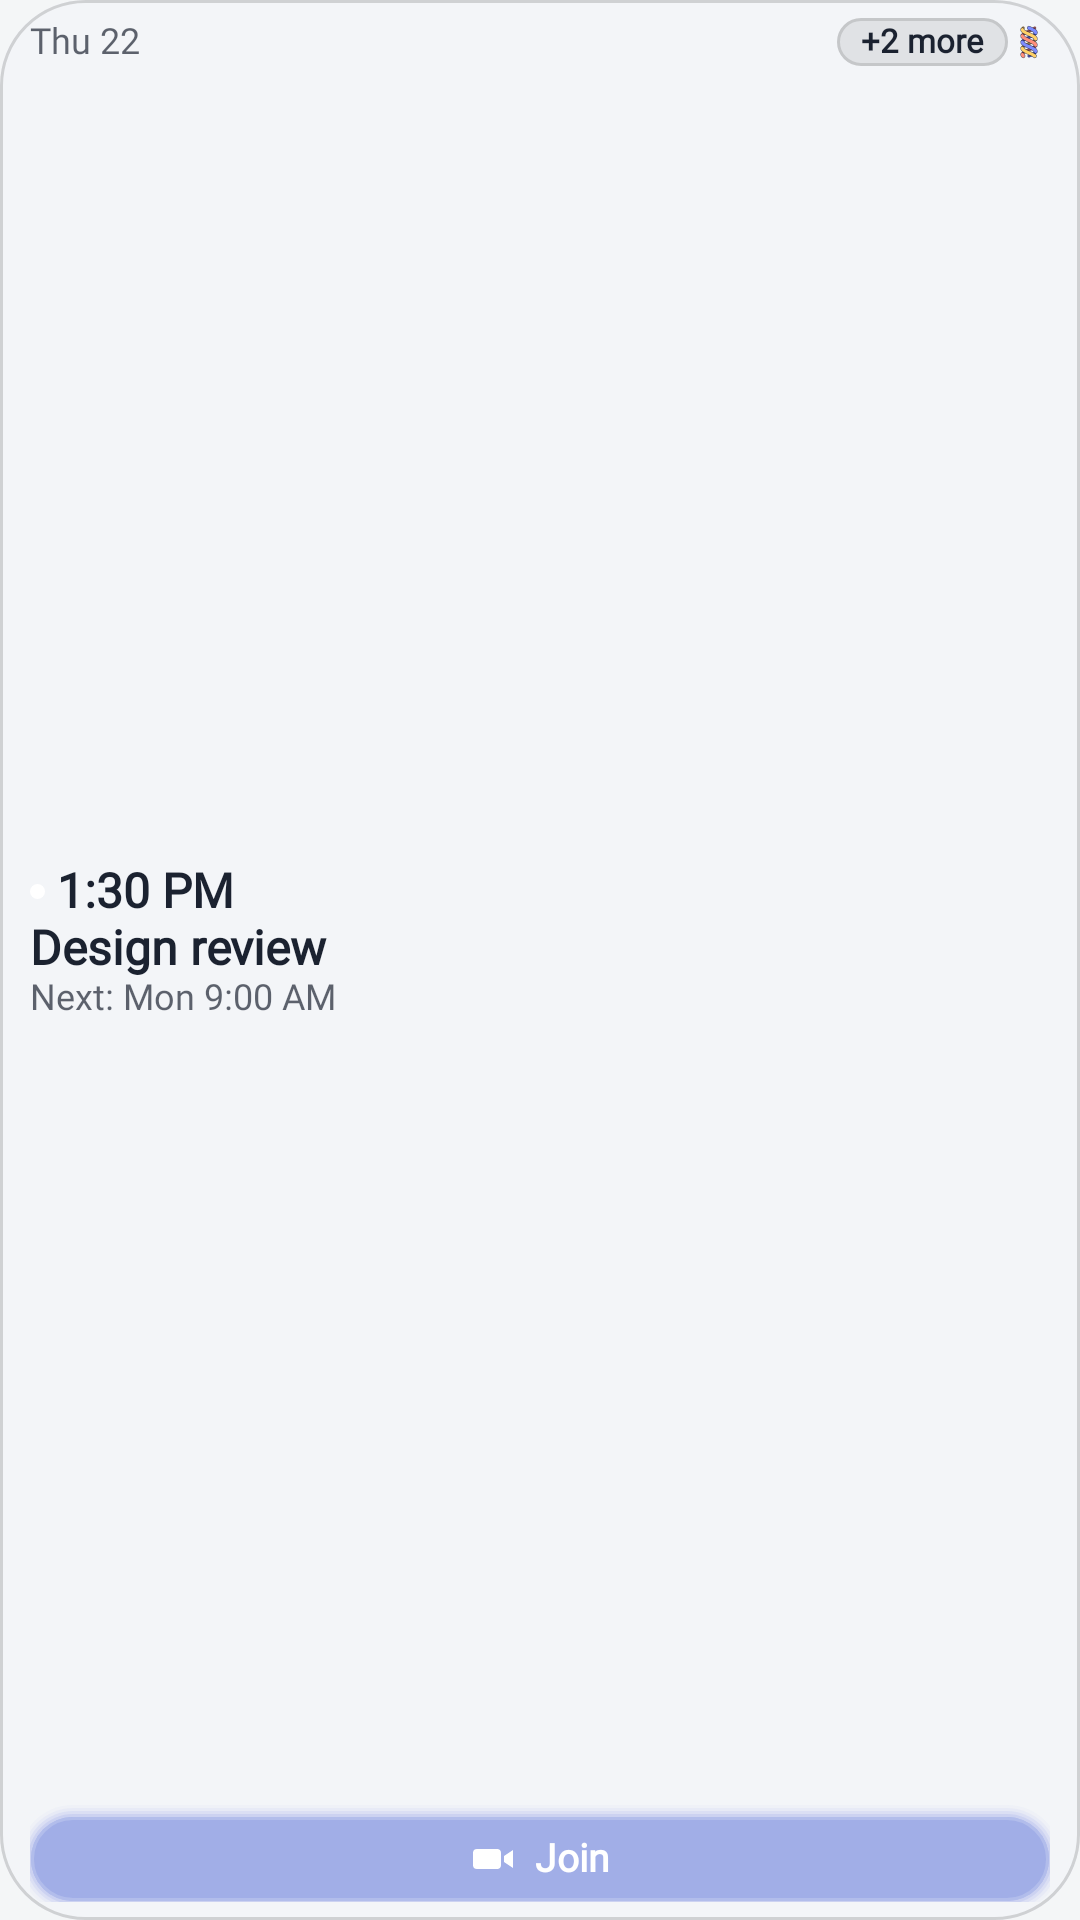

Icons on this 1080px x 1920px Android screen, each with its box as {"x1": x1, "y1": y1, "x2": x2, "y2": y2}:
plait mark: {"x1": 1020, "y1": 26, "x2": 1038, "y2": 58}
widget video: {"x1": 473, "y1": 1849, "x2": 513, "y2": 1869}
